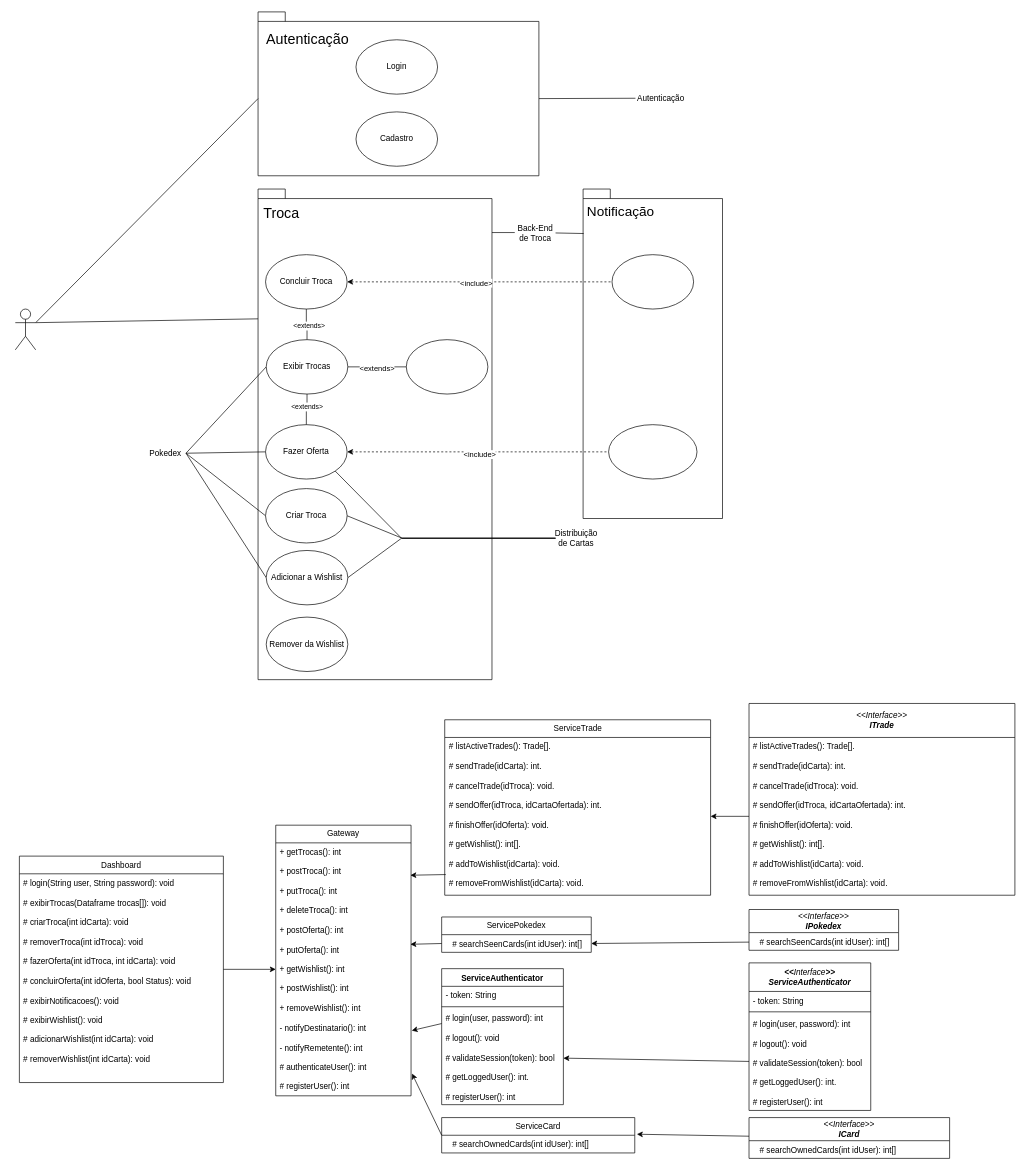
Image size: 1027x1172. Some labels were removed from this diagram. The shapes that lost their labels are listed below. From the top down, each one's centre as x and y in pixels, then its label:
At point (652, 281): "Notificar Remetente".
At point (25, 329): "Usuario".
At point (447, 366): "Historico".
At point (652, 451): "Notificar Destinatário".
